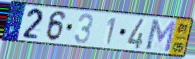1: (106, 16, 117, 45)
2: (20, 7, 45, 42)
3: (74, 13, 94, 44)
4: (125, 17, 145, 51)
6: (45, 10, 67, 42)
M: (144, 18, 178, 54)
